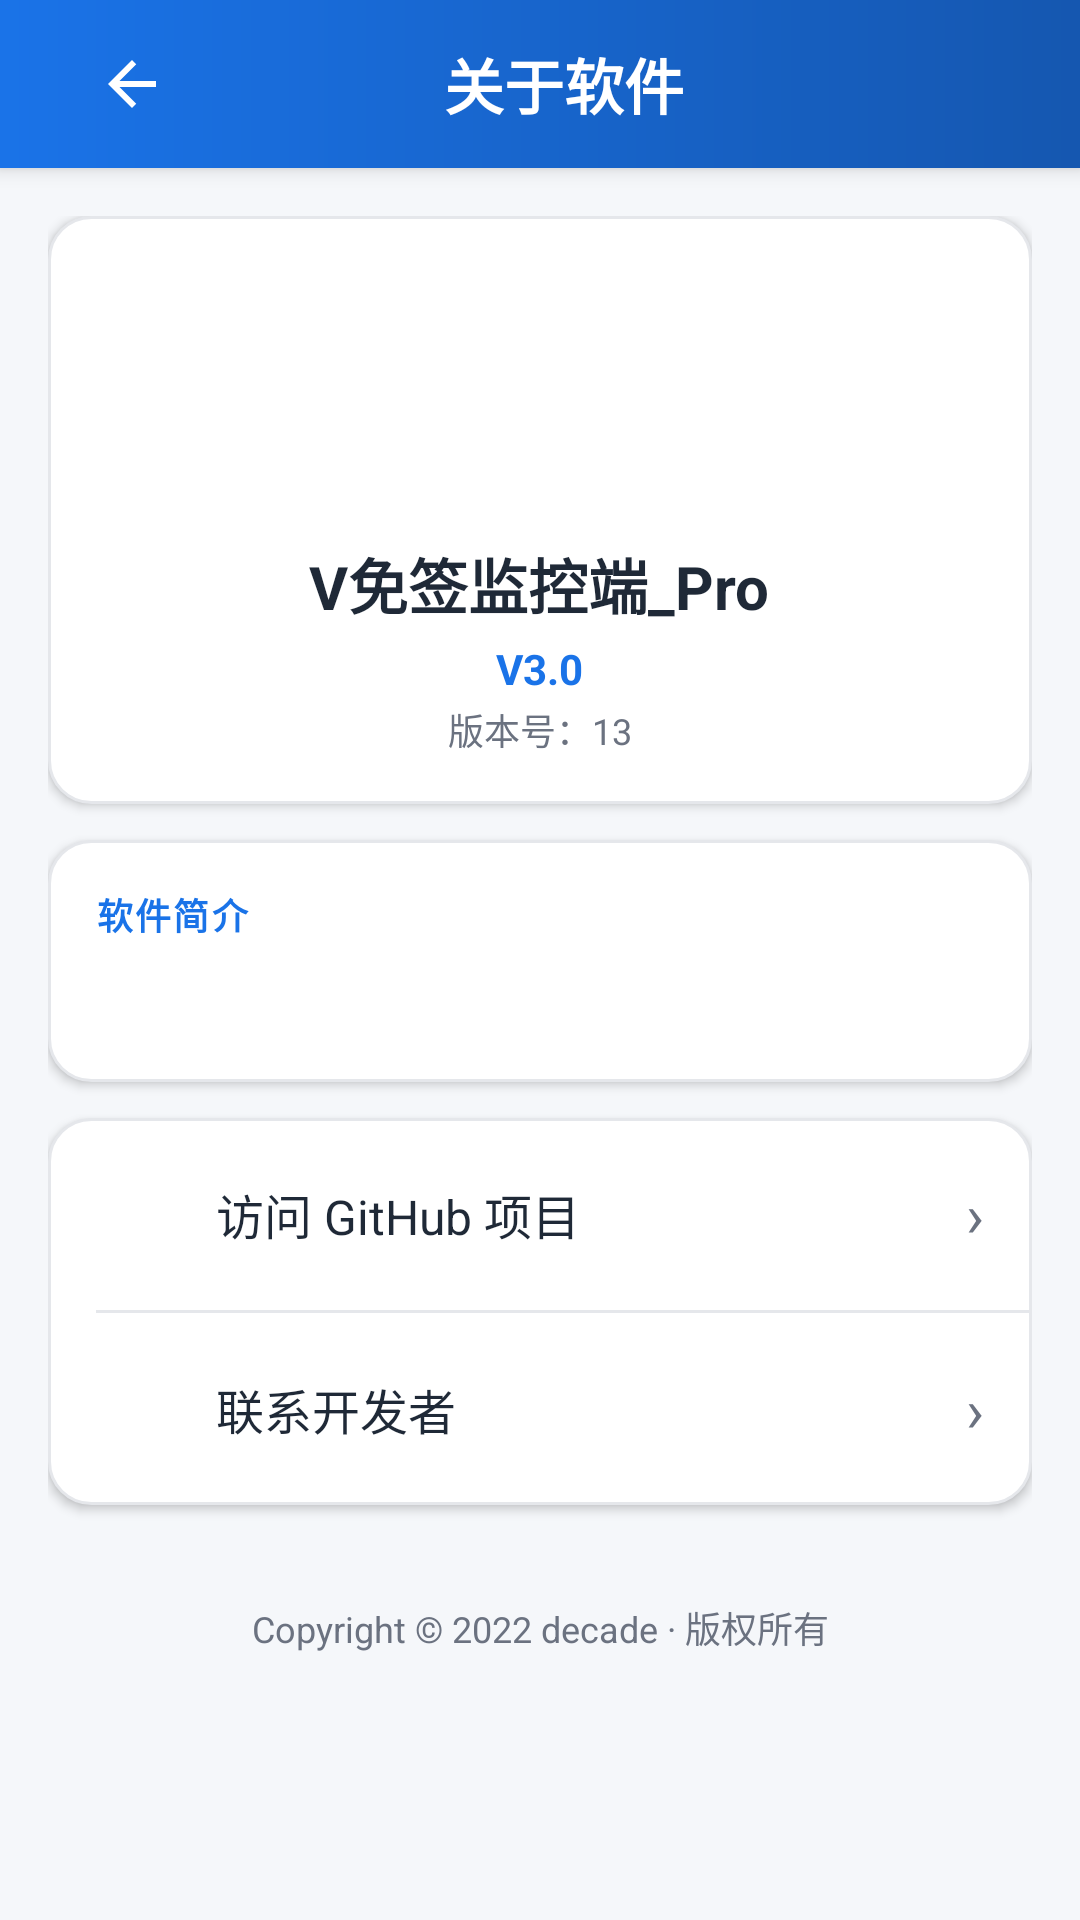

Named icons in this screenshot (1080w x 1920h) and their bounding boxes, bbox=(x1, y1, x2, y2):
返回: bbox=(108, 60, 156, 108)
